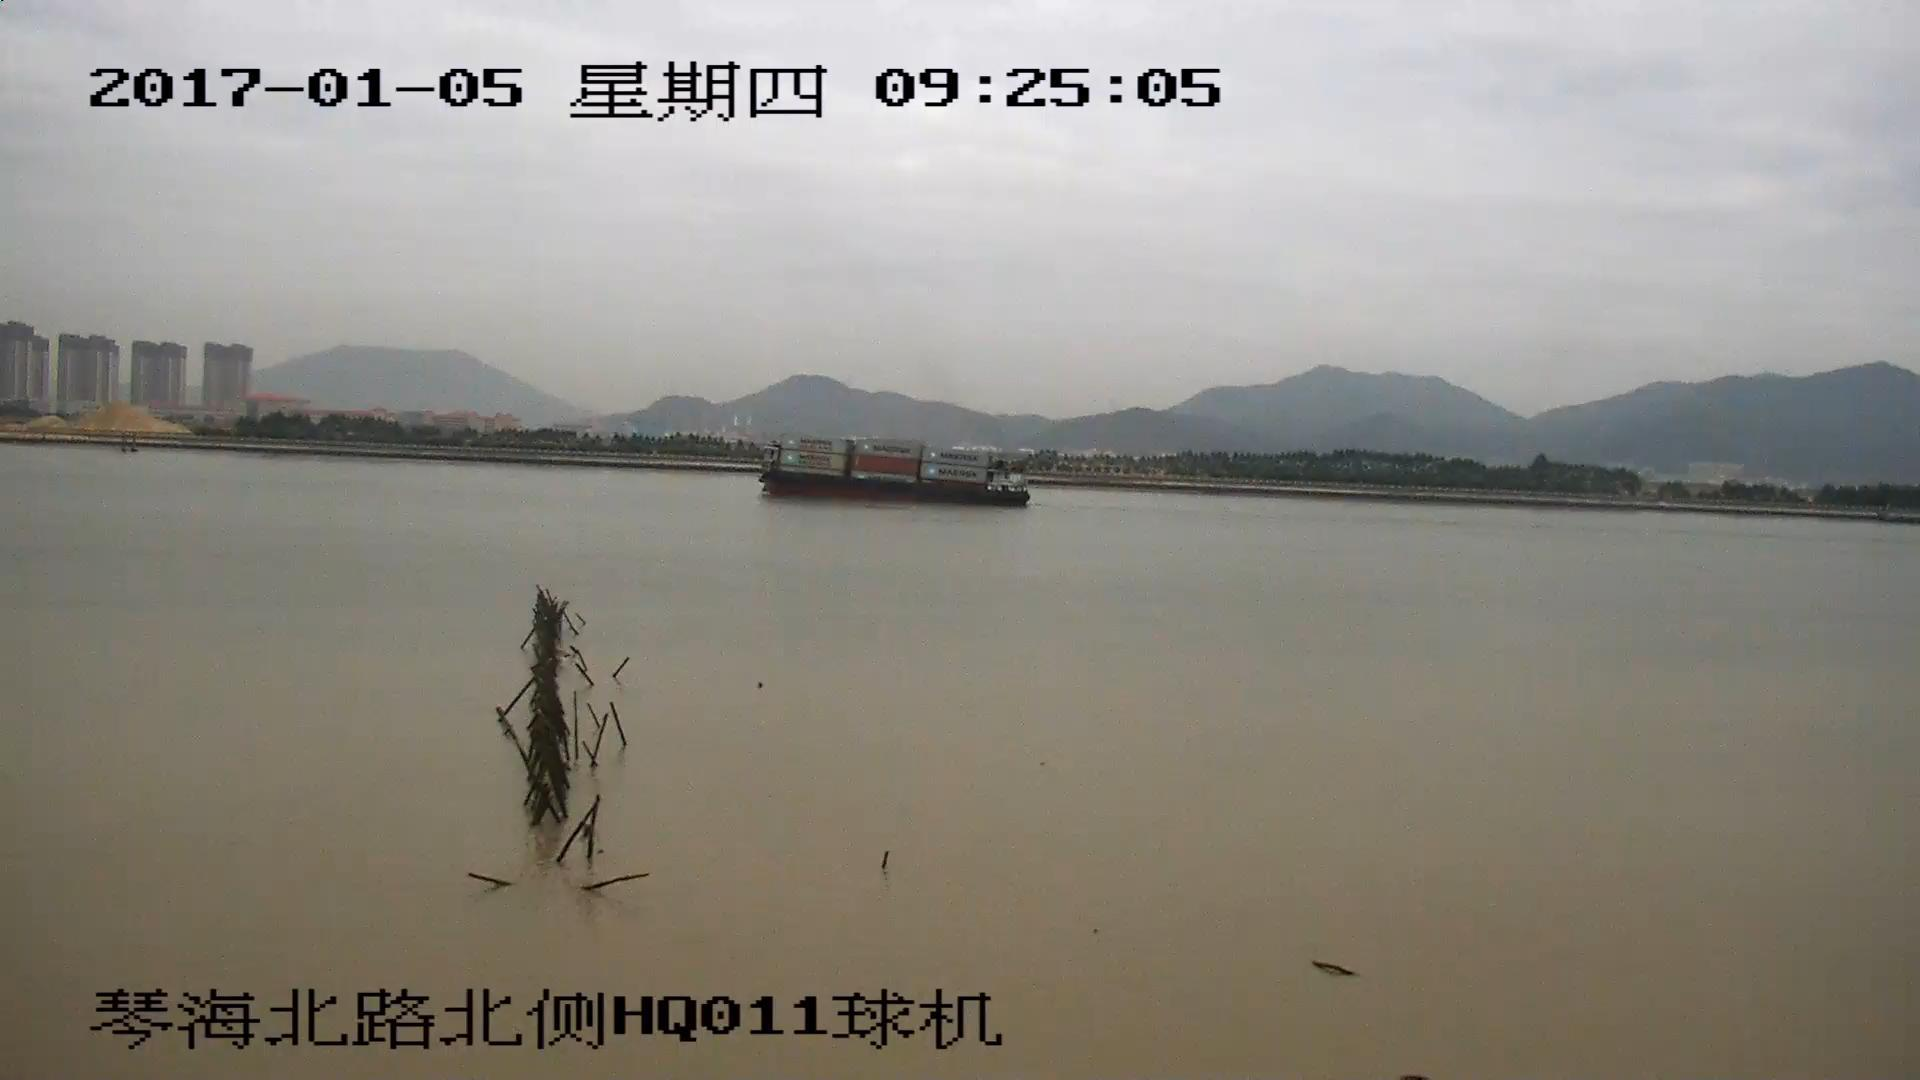Ship: (756, 440, 1026, 506)
